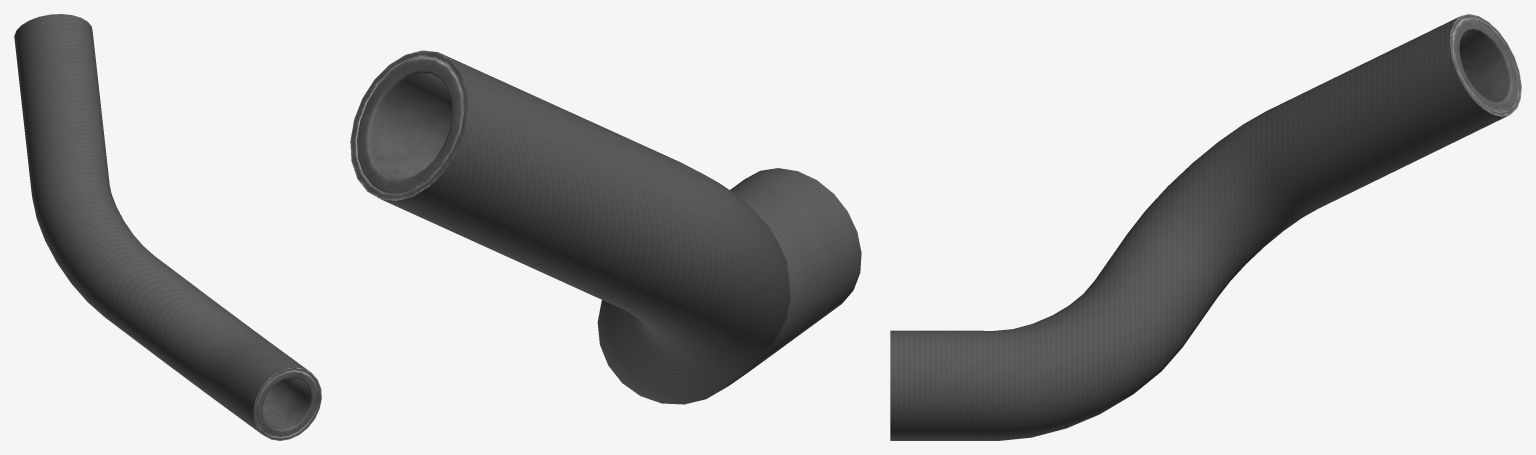
File: selangRadiator.glb
3 renders of one model, left to right at view 1: azimuth 30°, elevation 25°; view 2: azimuth 150°, elevation 25°; view 3: azimuth 270°, elevation 25°, orthographic. The views are drawn at different scales.
Visible parts, largest first — view 1: selangRadiator; view 2: selangRadiator; view 3: selangRadiator.
Boxes of the visible parts, x1,y1,x2,y2 form: selangRadiator: (14,14,321,440); selangRadiator: (350,50,861,404); selangRadiator: (890,14,1521,440).
Bounding box in the file's own units: 1.45 × 2.7 × 3.89.
1 material, 1 textured.
